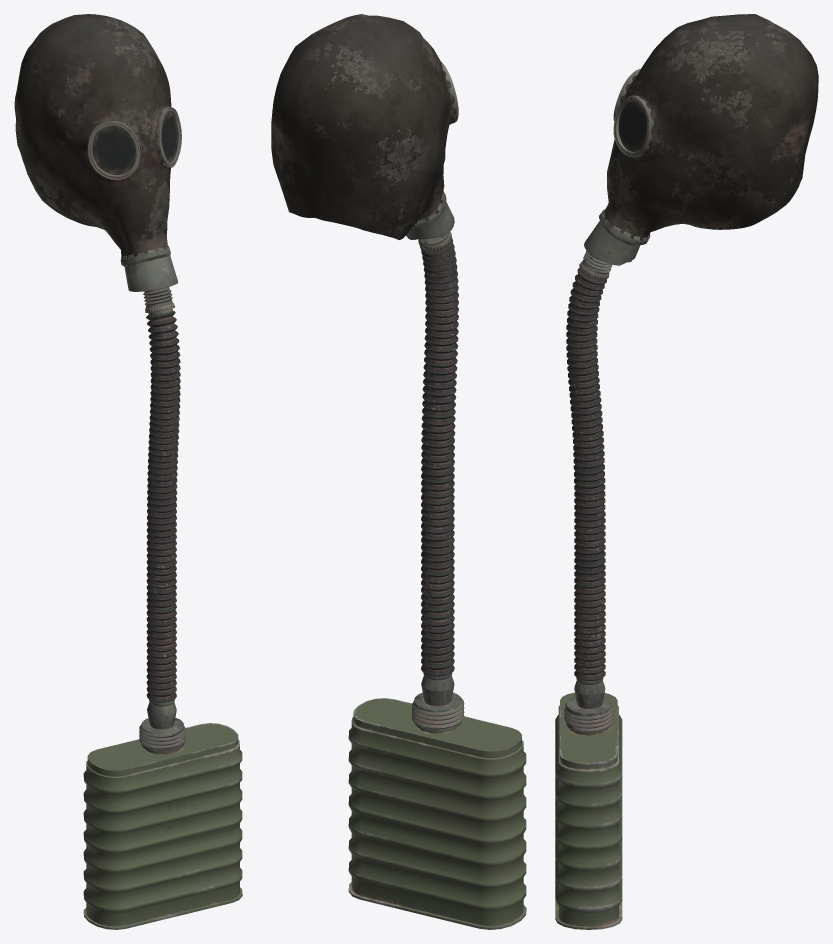
Rendered from gas-mask.glb.
3 views of the same model, side by side, from view 1: azimuth 30°, elevation 25°; view 2: azimuth 150°, elevation 25°; view 3: azimuth 270°, elevation 25° (orthographic). The views are drawn at different scales.
Visible parts, largest first — view 1: old_gas_mask; view 2: old_gas_mask; view 3: old_gas_mask.
Part boxes in pixels (box(x1,y1,x2,y2)): old_gas_mask: box(14, 14, 242, 929); old_gas_mask: box(271, 14, 526, 929); old_gas_mask: box(555, 14, 818, 929).
Bounding box in the file's own units: 0.2105 × 1.13 × 0.3087.
1 material, 1 textured.
